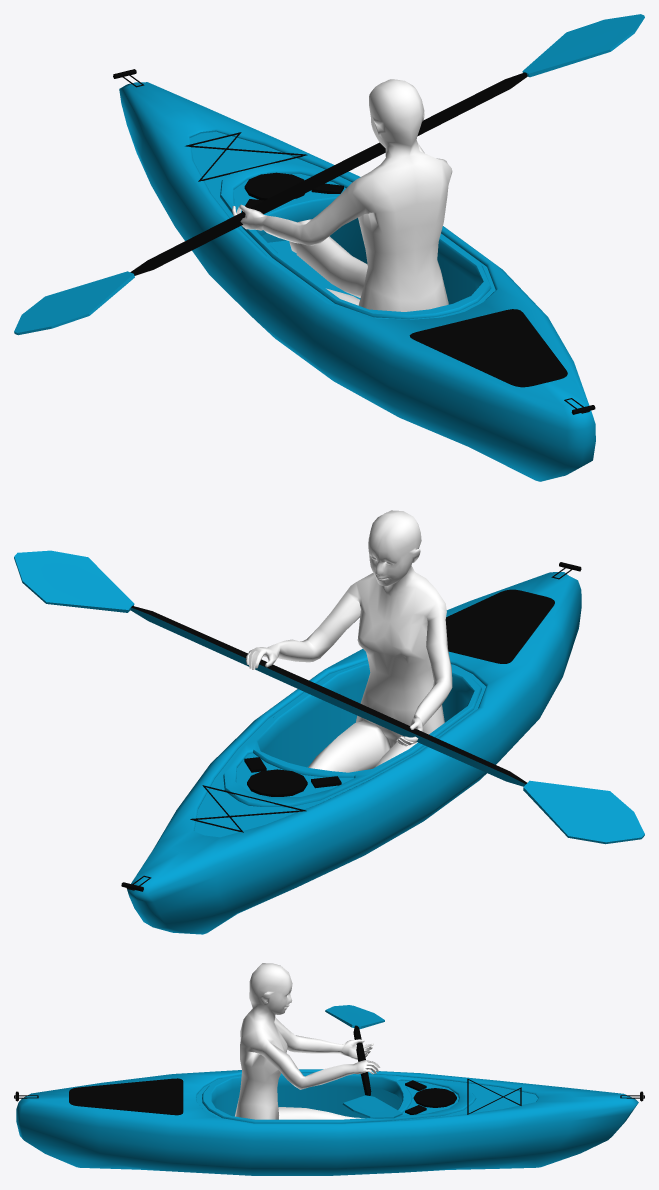
Rendered from 46seakayak_people.glb.
3 views of the same model, one above another, from view 1: azimuth 30°, elevation 25°; view 2: azimuth 150°, elevation 25°; view 3: azimuth 270°, elevation 25° (orthographic). The views are drawn at different scales.
Visible parts, largest first — view 1: SeaKayak, SeaKayak_People, SeaKayak_All; view 2: SeaKayak, SeaKayak_People, SeaKayak_All; view 3: SeaKayak, SeaKayak_People, SeaKayak_All.
Part boxes in pixels (x1,y1,x2,y2): SeaKayak: [113, 69, 595, 481]; SeaKayak_People: [232, 79, 452, 311]; SeaKayak_All: [14, 14, 644, 335]; SeaKayak: [121, 562, 581, 934]; SeaKayak_People: [246, 510, 452, 772]; SeaKayak_All: [14, 550, 644, 844]; SeaKayak: [14, 1069, 644, 1175]; SeaKayak_People: [235, 963, 380, 1119]; SeaKayak_All: [325, 1005, 402, 1118].
Bounding box in the file's own units: 2.42 × 1.07 × 3.03.
